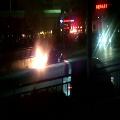fire: (28, 47, 47, 70)
